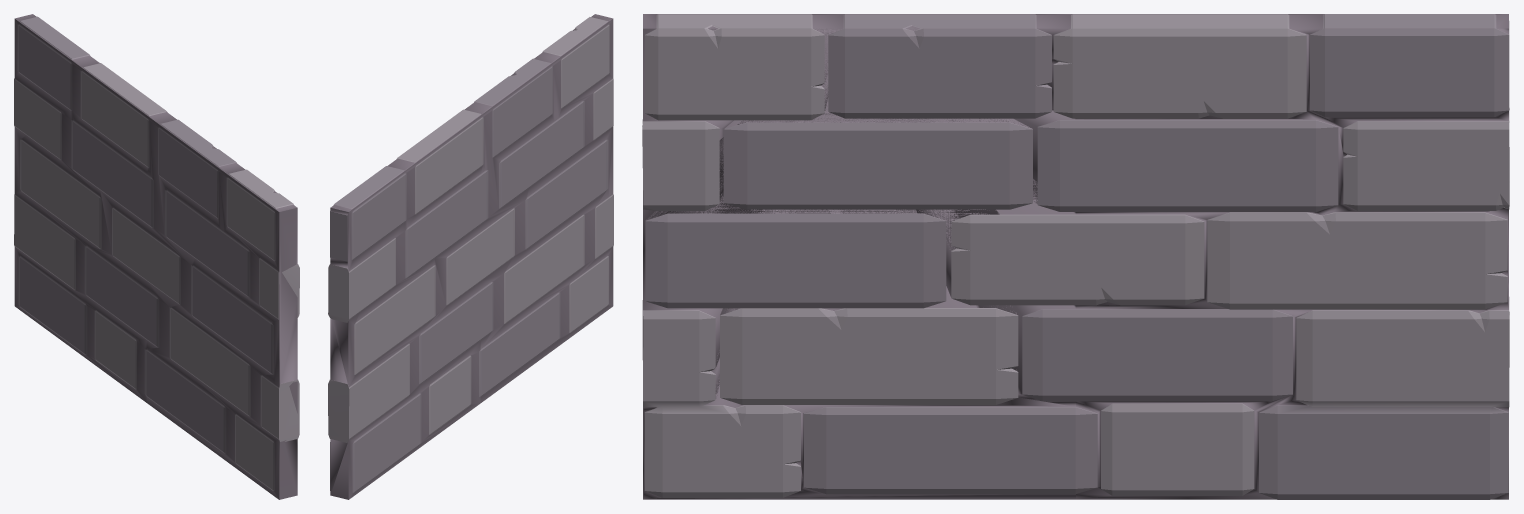
File: MurSecret.fbx
The picture shows the model from 3 angles, left to right: view 1: azimuth 30°, elevation 25°; view 2: azimuth 150°, elevation 25°; view 3: azimuth 270°, elevation 25°; orthographic projection. The views are drawn at different scales.
Parts seen in each view (by area): view 1: MurGauche, Mur Droite; view 2: Mur Droite, MurGauche; view 3: Mur Droite, MurGauche.
Boxes of the visible parts, x1,y1,x2,y2 form: MurGauche: (146, 110, 299, 499); Mur Droite: (14, 14, 165, 402); Mur Droite: (328, 110, 481, 499); MurGauche: (462, 14, 613, 402); Mur Droite: (1076, 14, 1509, 499); MurGauche: (642, 14, 1075, 499).
Bounding box in the file's own units: 22.95 × 301 × 501.
